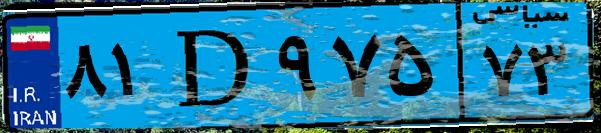1: (110, 28, 158, 98)
3: (525, 38, 570, 115)
5: (385, 28, 445, 110)
7: (330, 28, 385, 110), (475, 38, 525, 113)
8: (57, 26, 110, 100)
9: (270, 28, 330, 110)
D: (158, 12, 270, 120)
